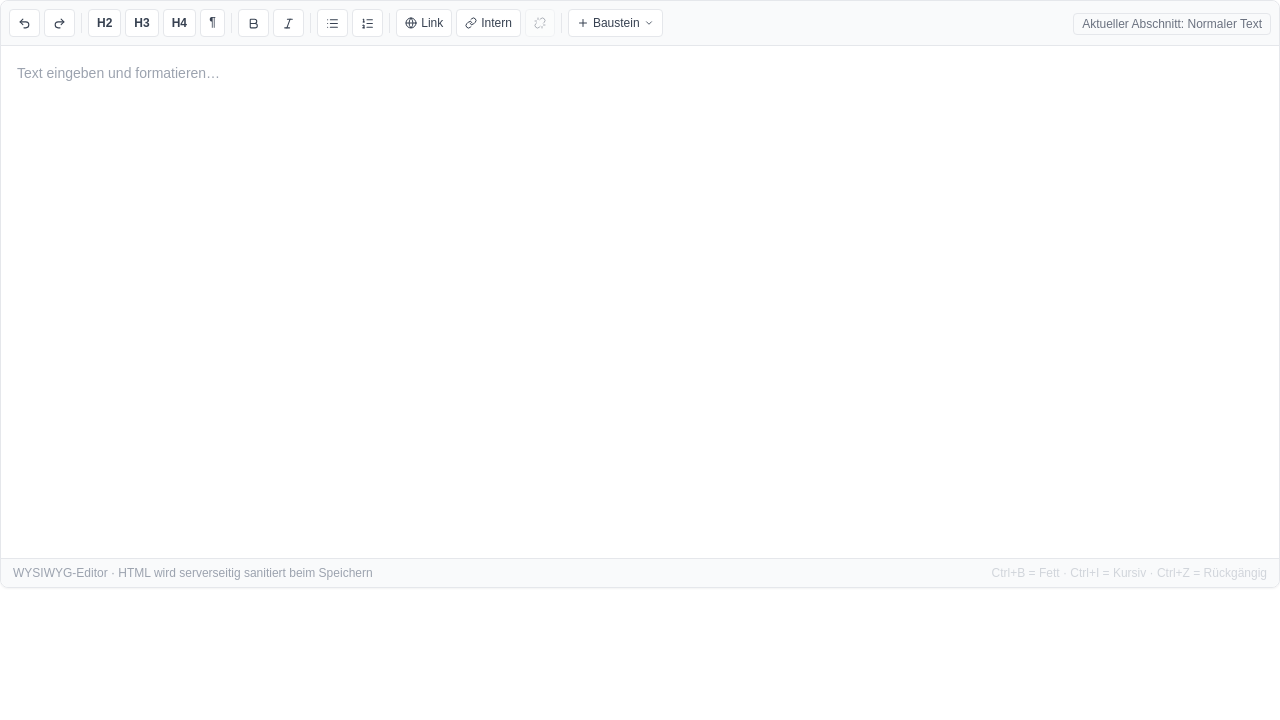
Test: AdminRichTextEditor: Link-Panel › Link-Panel schliesst sich bei erneutem Klick auf Link-Button
This screenshot has width=1280, height=720.
Note: Panel öffnen
Press the mouse on the button titled "Externer Link" at (424, 23), box [396,9,452,37]
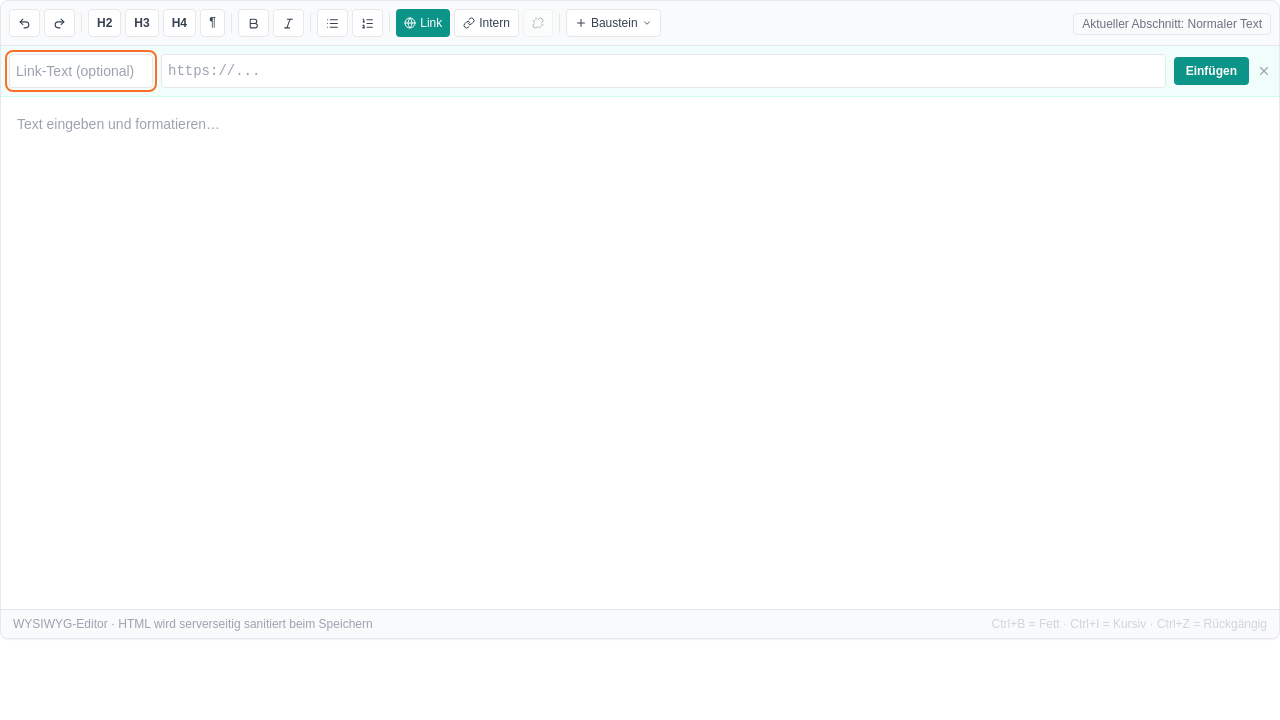
Expected: the field with placeholder "https://..." is shown
Note: Panel schliessen via Escape-Taste im URL-Feld
Press Escape in the field with placeholder "https://...", box [161,54,1166,88]
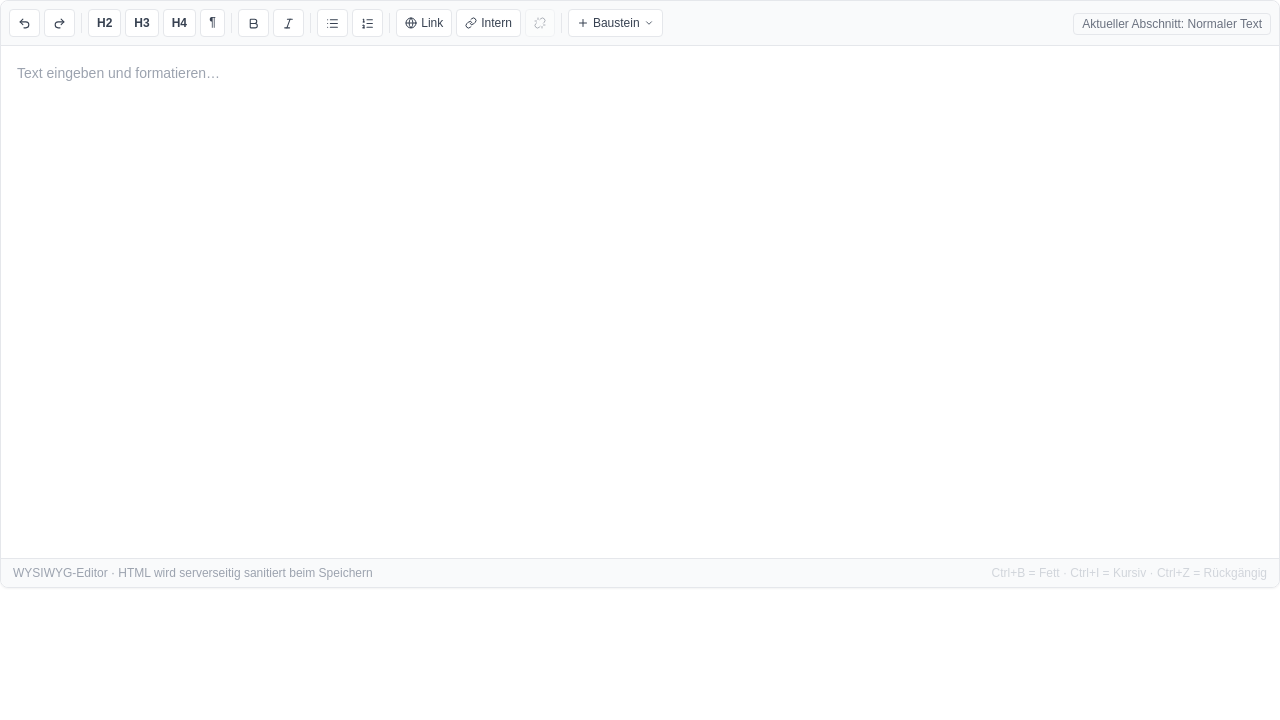
Expected: the field with placeholder "https://..." is gone
